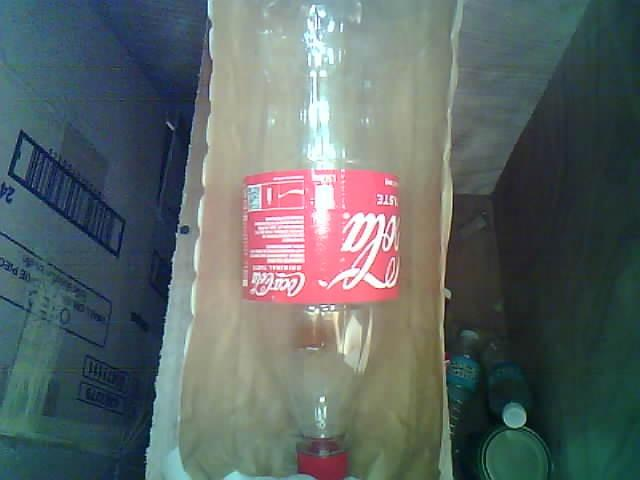large_bottle: (225, 0, 415, 480)
